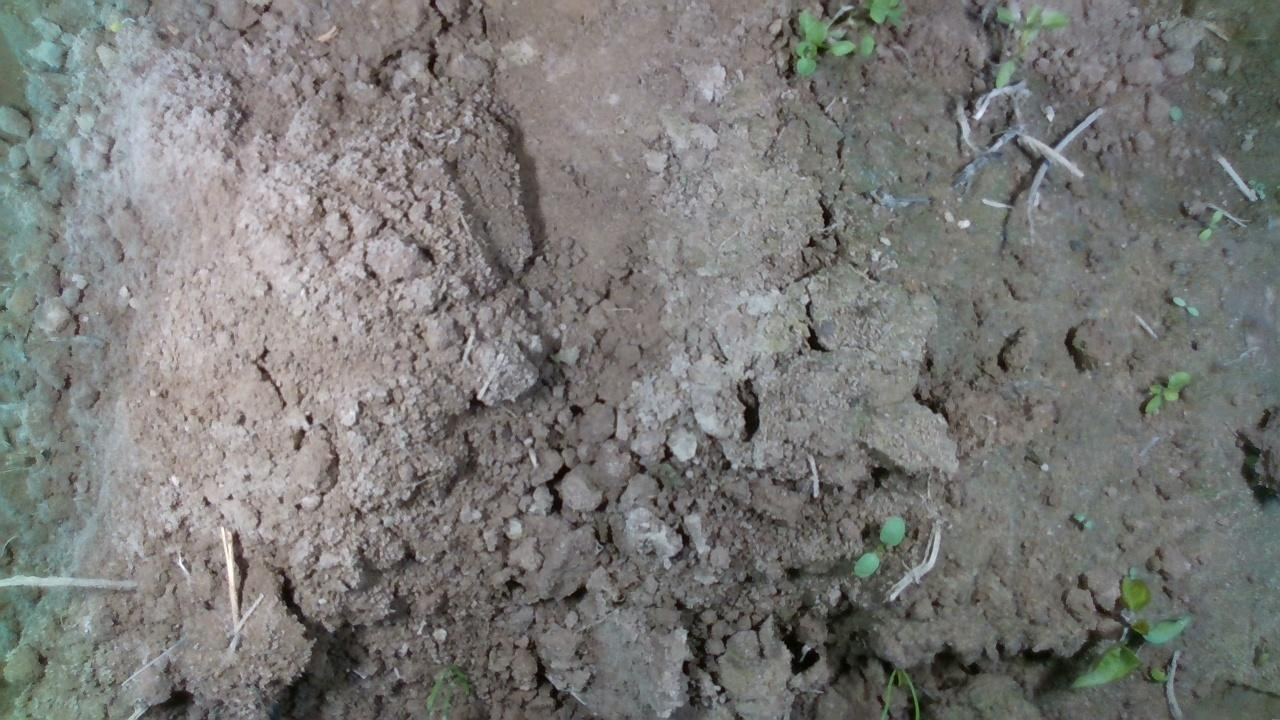weed: (852, 514, 904, 580), (1142, 368, 1190, 417), (1196, 207, 1222, 242), (1170, 293, 1198, 317)
